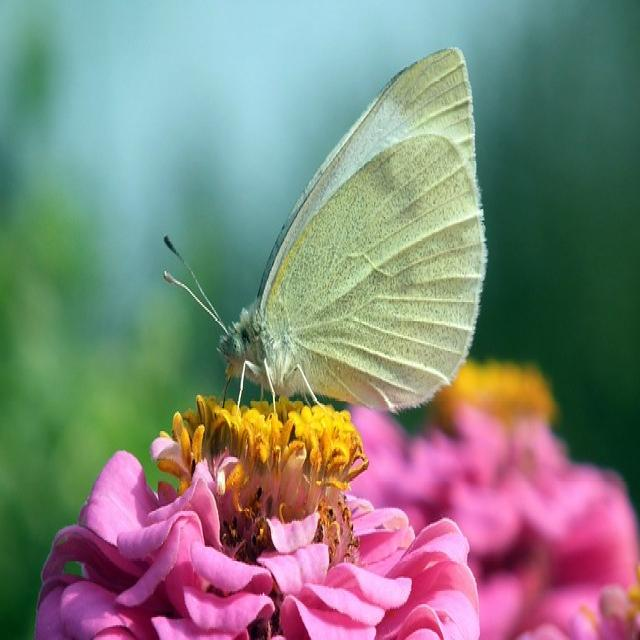butterfly: (171, 47, 488, 416)
